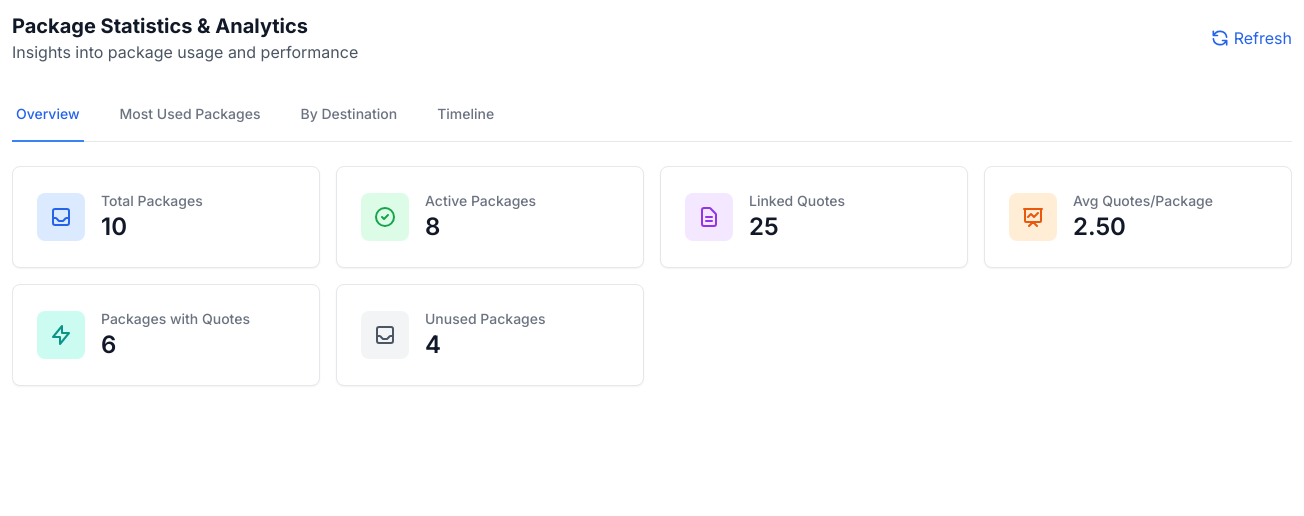
Test: SuperPackageStatistics › should switch between tabs
Expected: the heading "Package Statistics & Analytics" is shown, x1=12 y1=12 x2=358 y2=40
Expected: the text "Total Packages" is shown, x1=101 y1=191 x2=203 y2=211
# Switch to Most Used Packages tab
Click the button "Most Used Packages" at (190, 115), box x1=116 y1=88 x2=264 y2=142
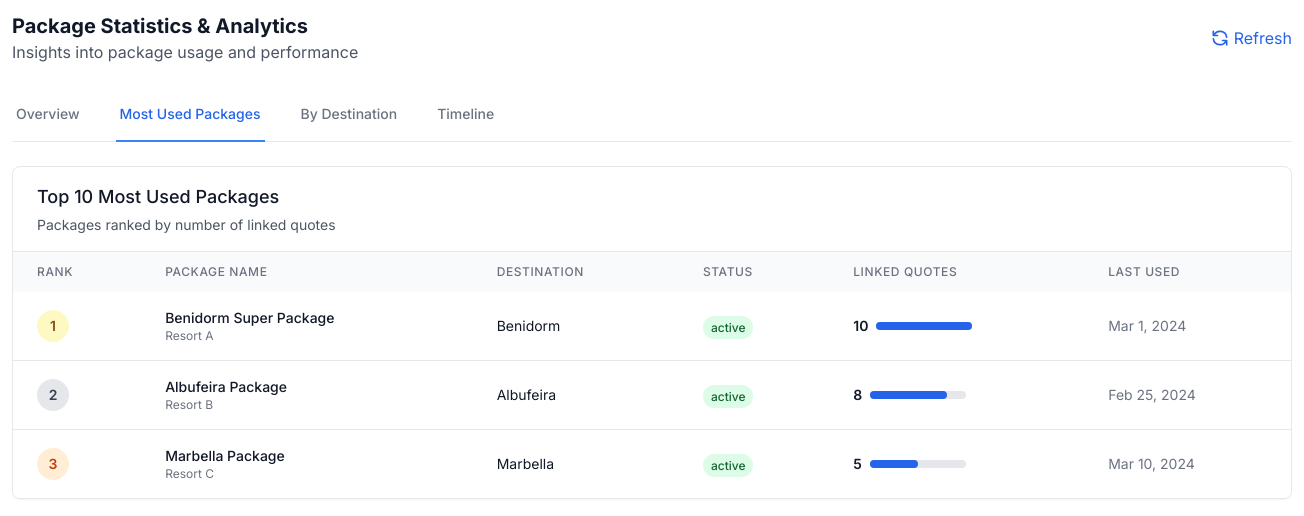
Result: the heading "Top 10 Most Used Packages" is shown at x1=37 y1=186 x2=279 y2=207
Result: the text "Benidorm Super Package" is shown at x1=165 y1=309 x2=334 y2=326
# Switch to Destinations tab
Click the button "By Destination" at (349, 115), box x1=296 y1=88 x2=401 y2=142
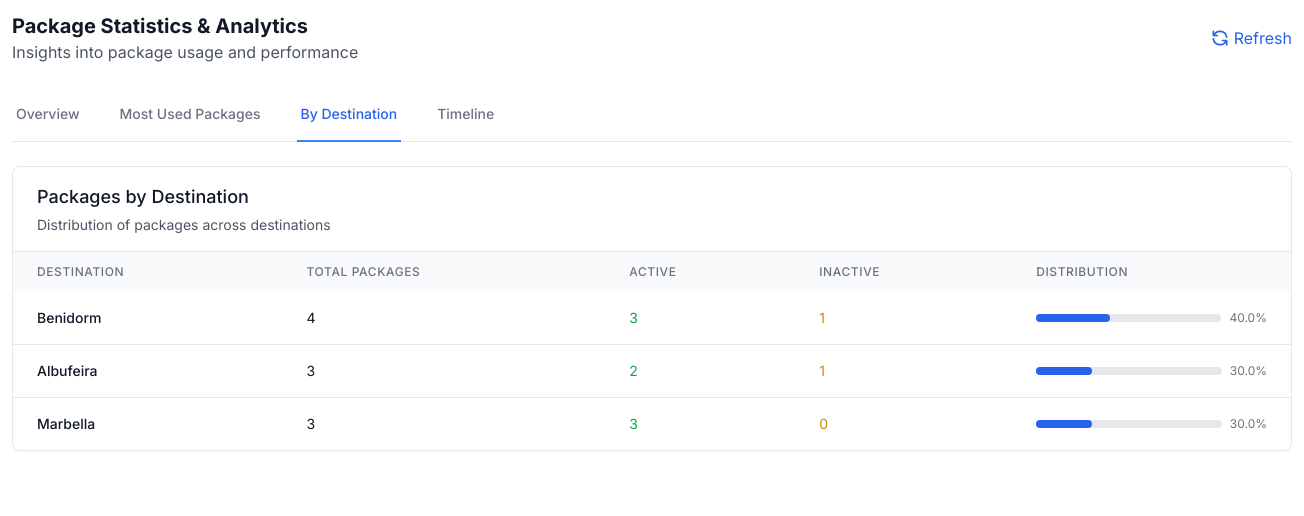
Result: the text "Benidorm" is shown at x1=13 y1=292 x2=282 y2=344
Result: the heading "Packages by Destination" is shown at x1=37 y1=186 x2=249 y2=207
# Switch to Timeline tab
Click the button "Timeline" at (466, 115), box x1=433 y1=88 x2=498 y2=142
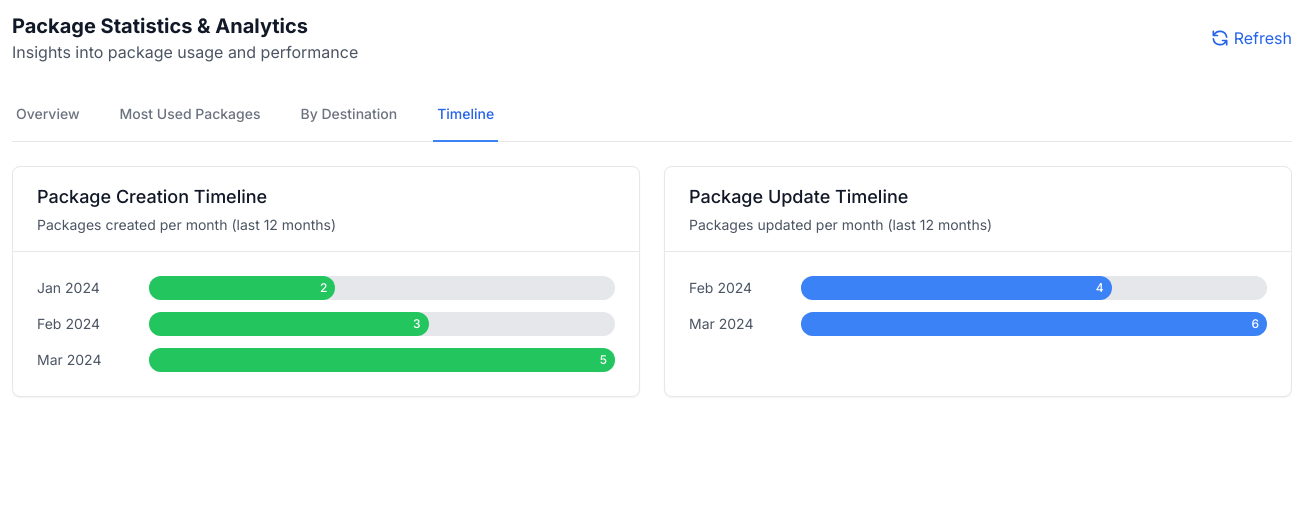
Result: the heading "Package Creation Timeline" is shown at x1=37 y1=186 x2=267 y2=207
Result: the heading "Package Update Timeline" is shown at x1=689 y1=186 x2=908 y2=207
